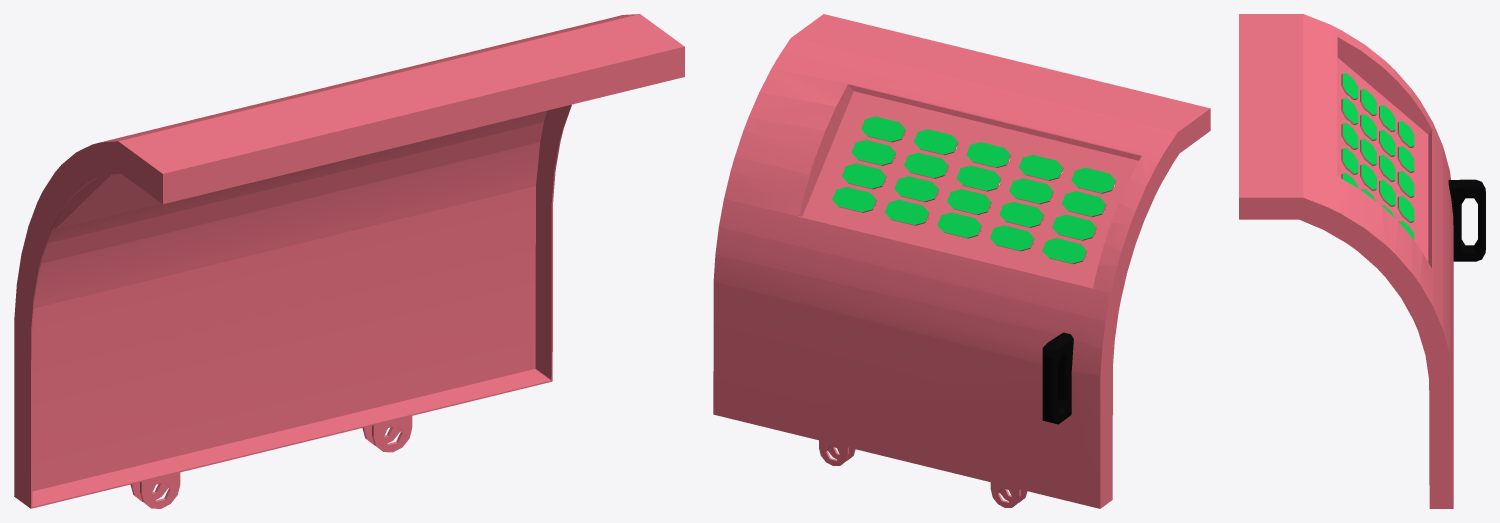
File: Mesin_CNC_1_Bagian_4.fbx
The picture shows the model from 3 angles, left to right: view 1: azimuth 30°, elevation 25°; view 2: azimuth 150°, elevation 25°; view 3: azimuth 270°, elevation 25°; orthographic projection. The views are drawn at different scales.
Visible parts, largest first — view 1: Mesin CNC 1 Bagian 4; view 2: Mesin CNC 1 Bagian 4; view 3: Mesin CNC 1 Bagian 4.
Boxes of the visible parts, x1=… form: Mesin CNC 1 Bagian 4: x1=14, y1=14, x2=684, y2=508; Mesin CNC 1 Bagian 4: x1=713, y1=14, x2=1210, y2=508; Mesin CNC 1 Bagian 4: x1=1239, y1=14, x2=1485, y2=508.
Bounding box in the file's own units: 72.32 × 61.61 × 41.07.
